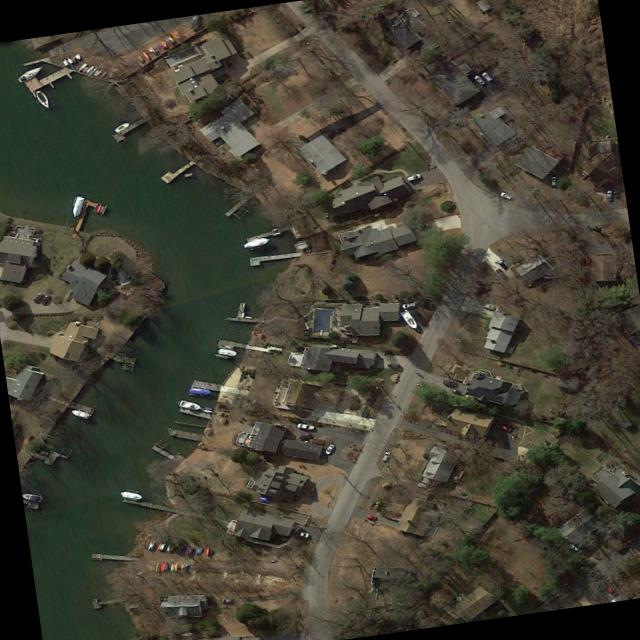ship: (15, 64, 45, 83), (399, 308, 419, 329), (34, 88, 51, 110), (177, 398, 204, 411), (241, 236, 271, 247), (70, 195, 85, 217), (119, 489, 142, 501), (69, 407, 90, 419), (188, 385, 210, 395), (113, 121, 130, 132), (216, 347, 236, 356), (76, 61, 88, 72), (86, 66, 98, 76), (84, 64, 94, 74), (140, 49, 149, 60), (199, 407, 213, 414), (178, 631, 192, 637)
small-vehicle: (416, 299, 433, 310), (386, 361, 402, 372), (495, 267, 507, 281), (30, 291, 43, 303), (496, 258, 509, 270), (568, 542, 581, 554), (605, 585, 618, 597), (405, 172, 421, 181), (472, 73, 484, 85), (441, 379, 458, 387), (297, 422, 314, 430), (482, 301, 496, 310), (323, 443, 334, 454), (480, 70, 491, 81), (498, 423, 511, 432), (497, 191, 511, 199), (39, 293, 50, 303), (451, 388, 464, 396), (297, 432, 311, 439), (401, 301, 415, 308), (381, 450, 390, 460), (416, 222, 429, 228), (365, 514, 377, 520), (220, 597, 231, 603), (605, 189, 611, 200), (613, 187, 618, 198), (308, 486, 314, 495), (550, 175, 555, 185)
